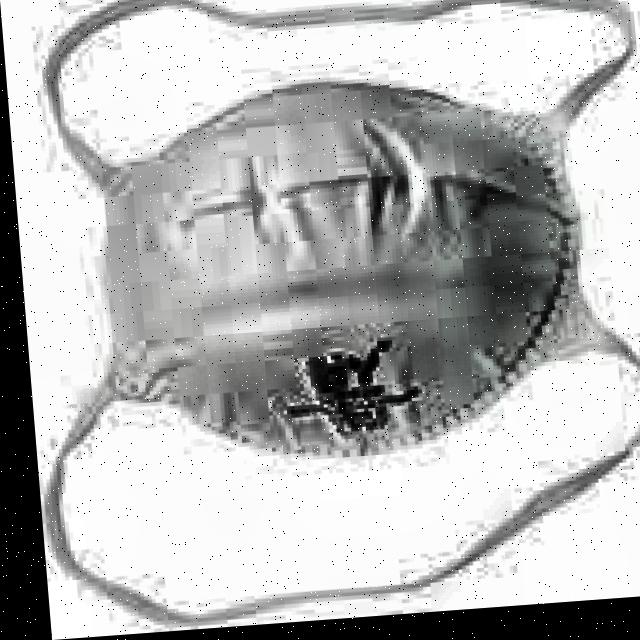trash: (21, 0, 640, 594)
